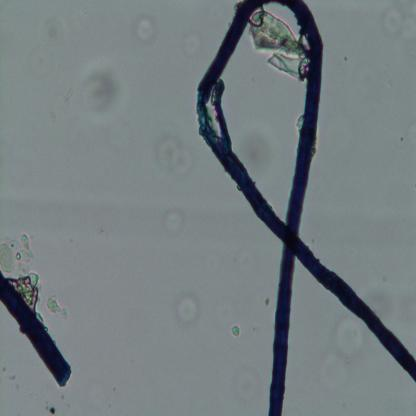Background material: (251, 12, 308, 81), (84, 61, 123, 124), (240, 117, 275, 181), (32, 19, 65, 70), (154, 137, 194, 177), (314, 354, 351, 397), (171, 17, 206, 61), (2, 233, 35, 276), (332, 319, 364, 359), (380, 4, 410, 44), (174, 295, 204, 326), (235, 374, 264, 404), (132, 14, 158, 46), (164, 212, 186, 237), (229, 322, 242, 340), (38, 402, 58, 413), (262, 296, 273, 308)
Cotton: (192, 1, 415, 415), (0, 274, 72, 385)
